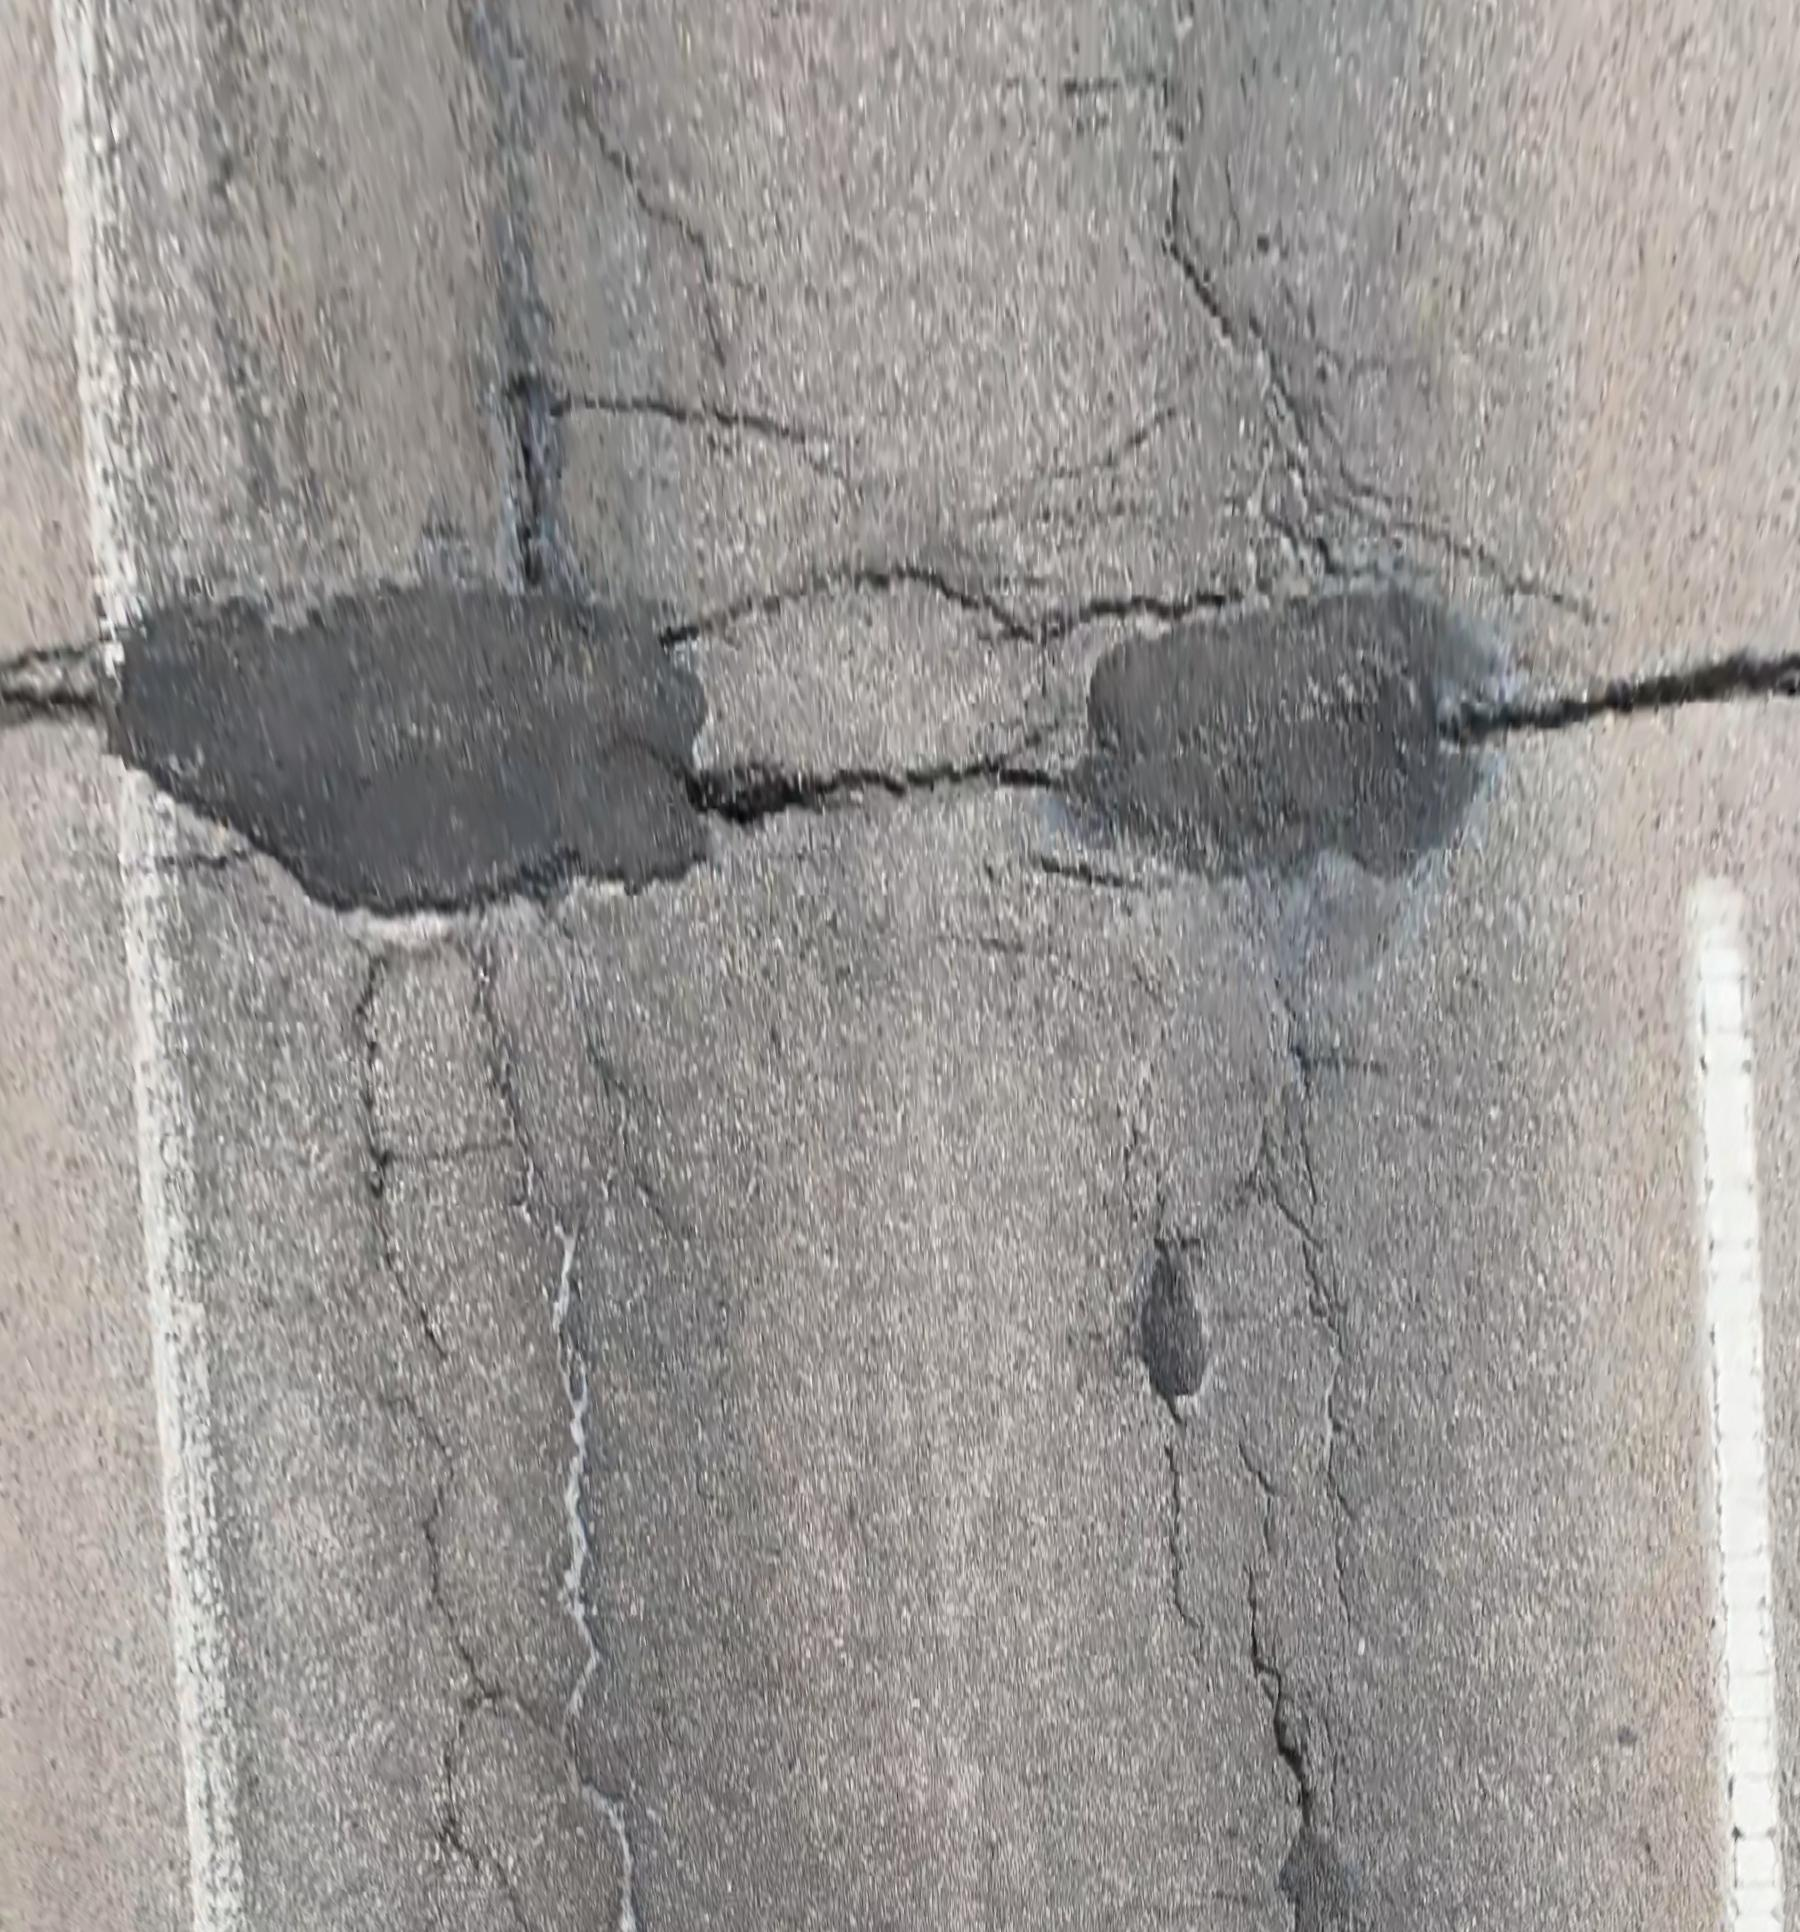pothole: (1458, 650, 1800, 741), (689, 761, 863, 824)
pothole_patch_good: (103, 584, 712, 927), (1086, 589, 1501, 1003), (1127, 1252, 1211, 1404), (1276, 1822, 1370, 1930)
